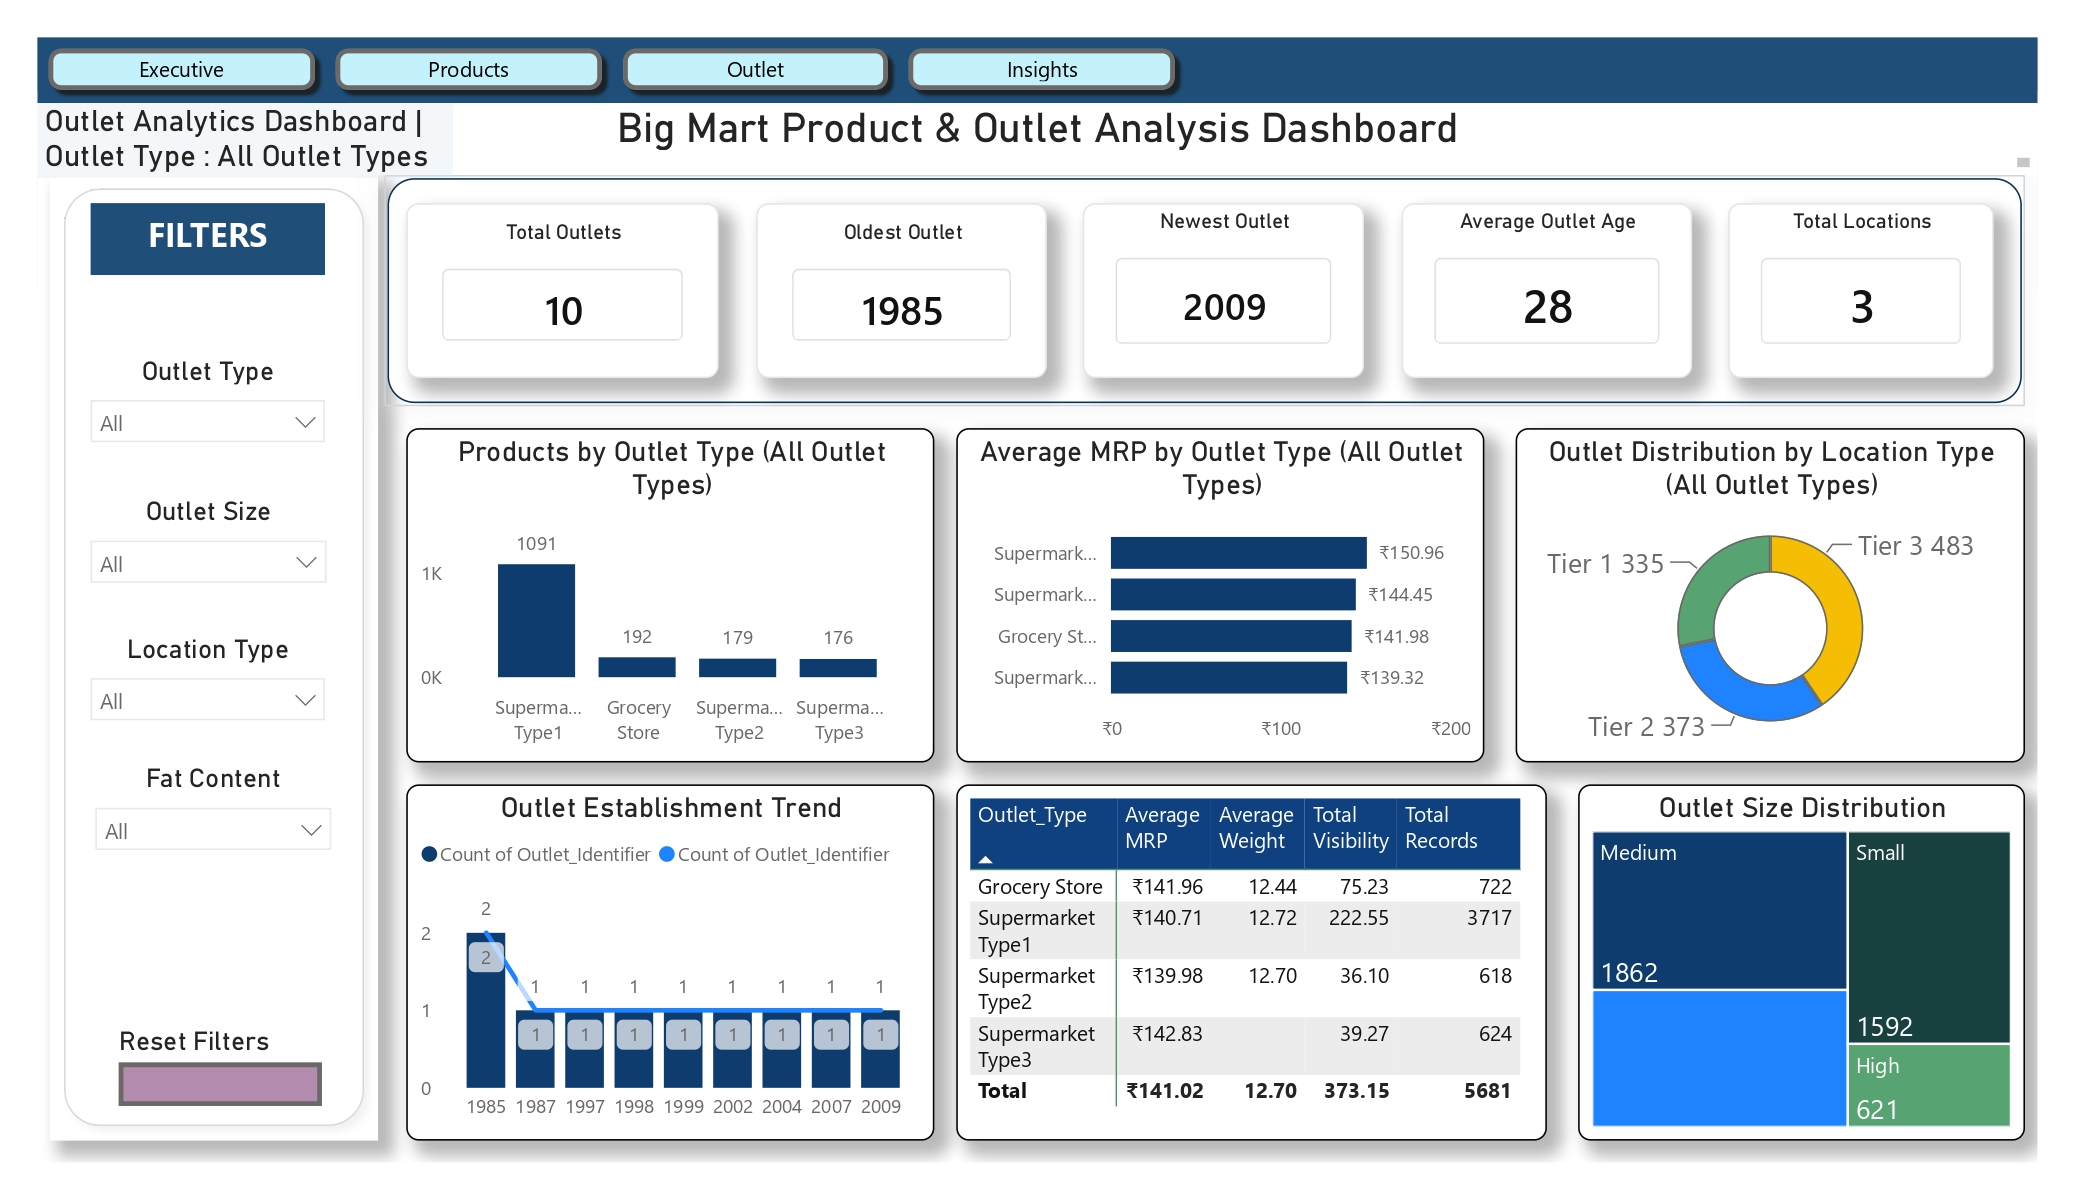

Layout of this report page (visuals, bound fields, positions):
{"tool":"powerbi","page":{"name":"Outlet Analytics","canvas":[1280,720],"ordinal":2},"visuals":[{"type":"shape","box":[0,0,1280,42],"z":0},{"type":"shape","box":[8,88,210,618],"z":1000},{"type":"slicer","title":"Outlet Type","fields":{"Values":["Big Mart Sales.Outlet_Type"]},"box":[24.3,202.8,169.9,64.1],"z":2000},{"type":"slicer","title":"Outlet Size","fields":{"Values":["Big Mart Sales.Outlet_Size"]},"box":[23.7,292.9,171,63.7],"z":3000},{"type":"slicer","title":"Location Type","fields":{"Values":["Big Mart Sales.Outlet_Location_Type"]},"box":[24.3,381.4,169.9,64.1],"z":4000},{"type":"shape","box":[222,88,1050,148],"z":5000},{"type":"cardVisual","title":"Total Outlets","fields":{"Data":["Meaures.Total Outlets"]},"box":[236,106,200,112],"z":6000},{"type":"cardVisual","title":"Oldest Outlet","fields":{"Data":["Meaures.Oldest Outlet Year"]},"box":[459.5,106,186,112],"z":7000},{"type":"cardVisual","title":"Newest Outlet","fields":{"Data":["Meaures.Newest Outlet Year"]},"box":[669,106,180,112],"z":8000},{"type":"cardVisual","title":"Average Outlet Age","fields":{"Data":["Meaures.Average Outlet Age"]},"box":[872.5,106,186,112],"z":9000},{"type":"cardVisual","title":"Total Locations","fields":{"Data":["Meaures.Total Locations"]},"box":[1082,106,170,112],"z":10000},{"type":"textbox","title":"Big Mart Product & Outlet Analysis Dashboard","box":[0,42,1280,46],"z":11000},{"type":"textbox","box":[0,42,266,48],"z":12000},{"type":"textbox","box":[34,106,150,46],"z":13000},{"type":"clusteredColumnChart","fields":{"Category":["Big Mart Sales.Outlet_Type"],"Y":["Meaures.Total Records"]},"box":[236,250,338,214],"z":14000},{"type":"lineClusteredColumnComboChart","title":"Outlet Establishment Trend","fields":{"Category":["Big Mart Sales.Outlet_Establishment_Year"],"Y":["Count(Big Mart Sales.Outlet_Identifier)"],"Y2":["Count(Big Mart Sales.Outlet_Identifier)"]},"box":[236,478,338,228],"z":15000},{"type":"barChart","fields":{"Category":["Big Mart Sales.Outlet_Type"],"Y":["Meaures.Average MRP"]},"box":[588,250,338,214],"z":16000},{"type":"donutChart","fields":{"Category":["Big Mart Sales.Outlet_Location_Type"],"Y":["Meaures.Total Records"]},"box":[946,250,326,214],"z":17000},{"type":"pivotTable","fields":{"Values":["Meaures.Average MRP","Meaures.Average Weight","Meaures.Total Visibility","Meaures.Total Records"],"Rows":["Big Mart Sales.Outlet_Type"]},"box":[587.7,478.4,377.9,227.1],"z":18000},{"type":"treemap","title":"Outlet Size Distribution","fields":{"Values":["CountNonNull(Big Mart Sales.Item_Identifier)"],"Group":["Big Mart Sales.Outlet_Size"]},"box":[986.4,478.4,286,227.1],"z":19000},{"type":"actionButton","title":"Executive","box":[183.8,0,183.8,39.9],"z":20000},{"type":"actionButton","title":"Executive","box":[0,0,183.8,39.9],"z":21000},{"type":"actionButton","title":"Executive","box":[367.5,0,183.8,39.9],"z":22000},{"type":"actionButton","title":"Executive","box":[551.3,0,183.8,39.9],"z":23000},{"type":"slicer","title":"Fat Content","fields":{"Values":["Big Mart Sales.Item_Fat_Content"]},"box":[27.3,463.9,171,72.8],"z":24000},{"type":"actionButton","title":"Reset Filters","box":[52,632,130,52],"z":24001}]}

Visuals, with their boxes on the page's 1280x720 design canvas (x1, y1, x2, y2). These are canvas units, not pixel positions in the 2075x1200 screenshot, which may show the page scaled, cropped or inside an application window:
shape: <box>0,0,1280,42</box>
shape: <box>8,88,218,706</box>
"Outlet Type" slicer: <box>24,203,194,267</box>
"Outlet Size" slicer: <box>24,293,195,357</box>
"Location Type" slicer: <box>24,381,194,446</box>
shape: <box>222,88,1272,236</box>
"Total Outlets" cardVisual: <box>236,106,436,218</box>
"Oldest Outlet" cardVisual: <box>460,106,646,218</box>
"Newest Outlet" cardVisual: <box>669,106,849,218</box>
"Average Outlet Age" cardVisual: <box>872,106,1058,218</box>
"Total Locations" cardVisual: <box>1082,106,1252,218</box>
"Big Mart Product & Outlet Analysis Dashboard" textbox: <box>0,42,1280,88</box>
textbox: <box>0,42,266,90</box>
textbox: <box>34,106,184,152</box>
clusteredColumnChart - Big Mart Sales.Outlet_Type x Meaures.Total Records: <box>236,250,574,464</box>
"Outlet Establishment Trend" lineClusteredColumnComboChart: <box>236,478,574,706</box>
barChart - Big Mart Sales.Outlet_Type x Meaures.Average MRP: <box>588,250,926,464</box>
donutChart - Big Mart Sales.Outlet_Location_Type x Meaures.Total Records: <box>946,250,1272,464</box>
pivotTable - Meaures.Average MRP x Meaures.Average Weight: <box>588,478,966,706</box>
"Outlet Size Distribution" treemap: <box>986,478,1272,706</box>
"Executive" actionButton: <box>184,0,368,40</box>
"Executive" actionButton: <box>0,0,184,40</box>
"Executive" actionButton: <box>368,0,551,40</box>
"Executive" actionButton: <box>551,0,735,40</box>
"Fat Content" slicer: <box>27,464,198,537</box>
"Reset Filters" actionButton: <box>52,632,182,684</box>
